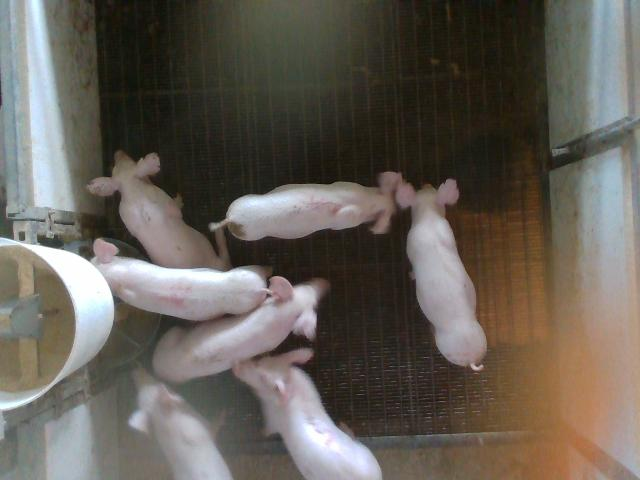pig-3: (234, 349, 382, 479)
pig-4: (91, 239, 270, 321)
pig-5: (210, 172, 401, 241)
